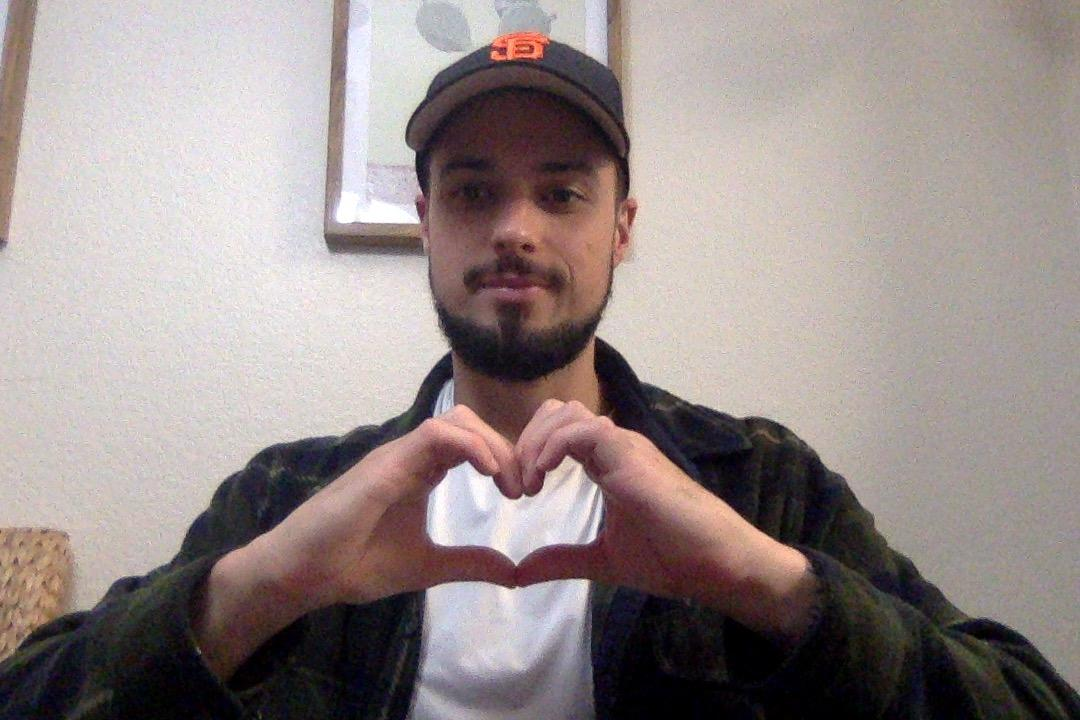Heart: (283, 398, 788, 604)
